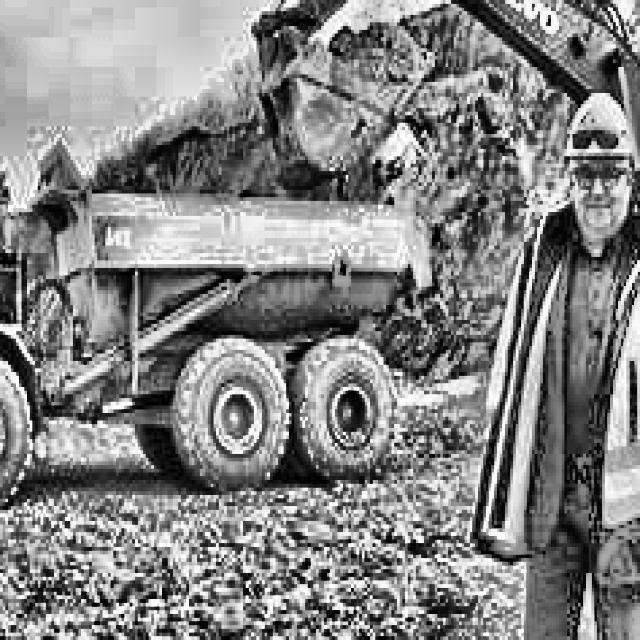dump_truck: (0, 134, 443, 510)
